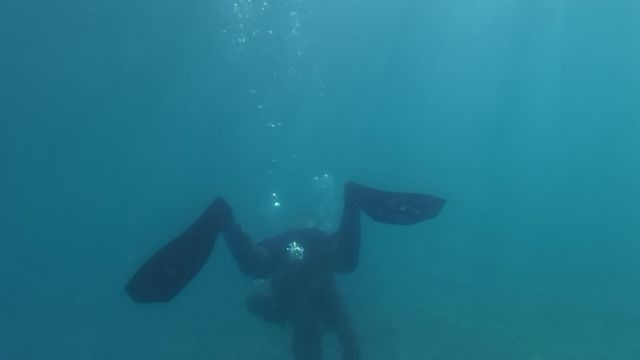Diver: (109, 143, 467, 355)
